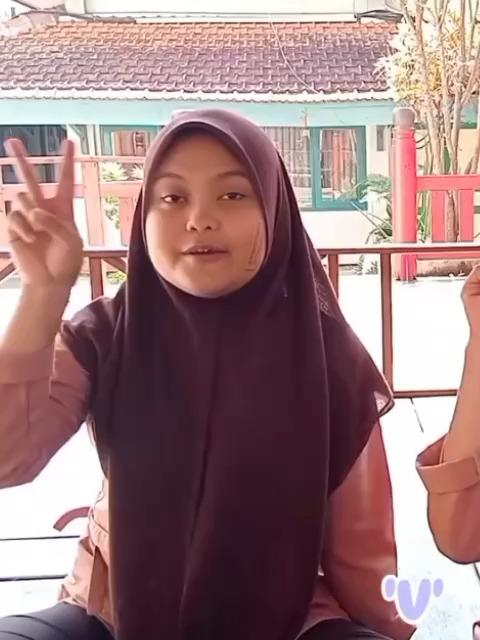V: (2, 126, 103, 306)
